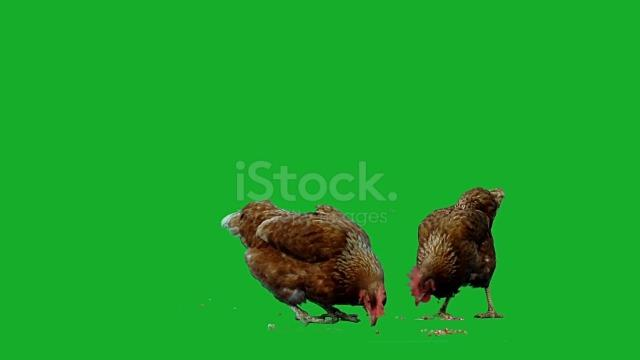Normal: (226, 203, 395, 334)
